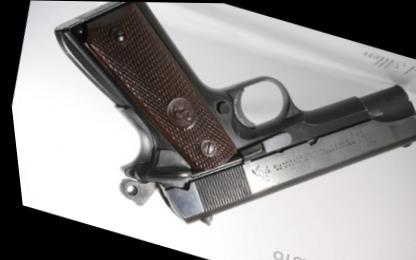pistol: (9, 0, 415, 257)
